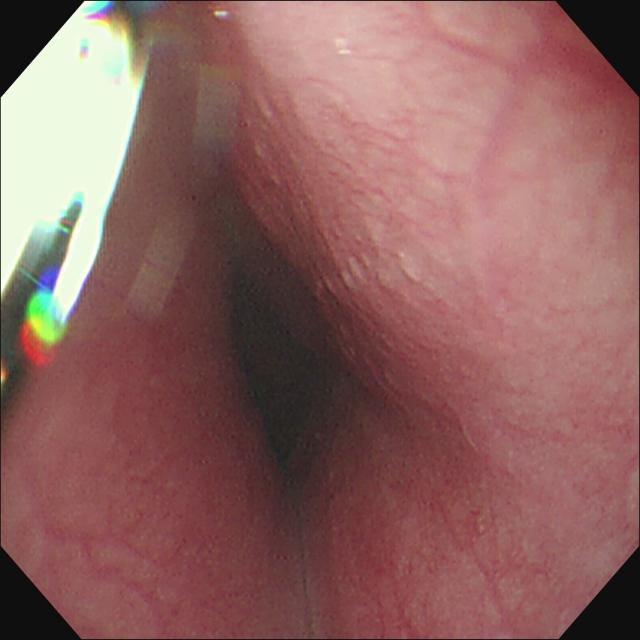E: (203, 215, 377, 494)
K: (2, 3, 166, 421)
